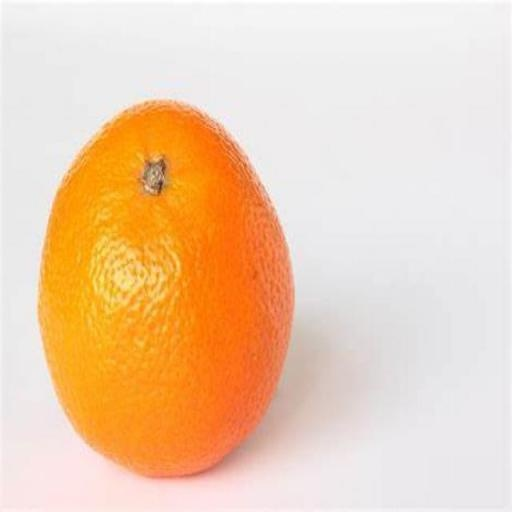fruit: (38, 101, 292, 475)
